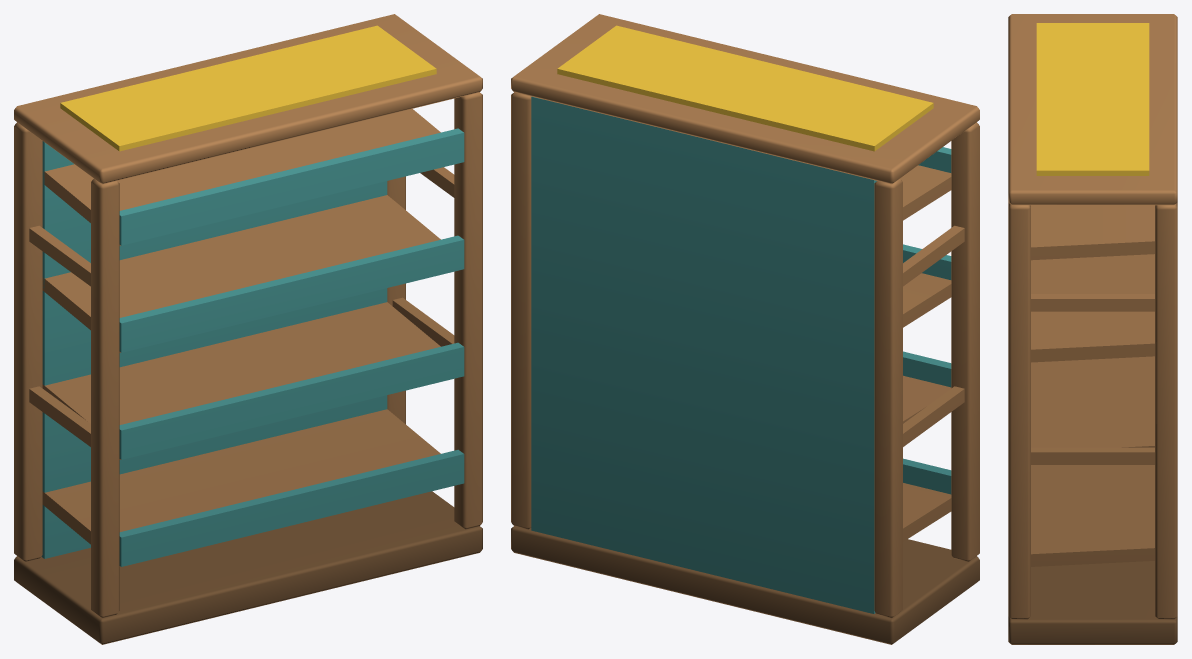
The model's file is BakeryRack_15.glb.
The picture shows the model from 3 angles, left to right: view 1: azimuth 30°, elevation 25°; view 2: azimuth 150°, elevation 25°; view 3: azimuth 270°, elevation 25°; orthographic projection. The views are drawn at different scales.
Visible parts, largest first — view 1: SM_BakeryRack_15; view 2: SM_BakeryRack_15; view 3: SM_BakeryRack_15.
Boxes of the visible parts, x1,y1,x2,y2 form: SM_BakeryRack_15: (14, 14, 482, 644); SM_BakeryRack_15: (511, 14, 979, 644); SM_BakeryRack_15: (1008, 14, 1177, 644).
Bounding box in the file's own units: 1.5 × 1.8 × 0.6.
1 material, 1 textured.
